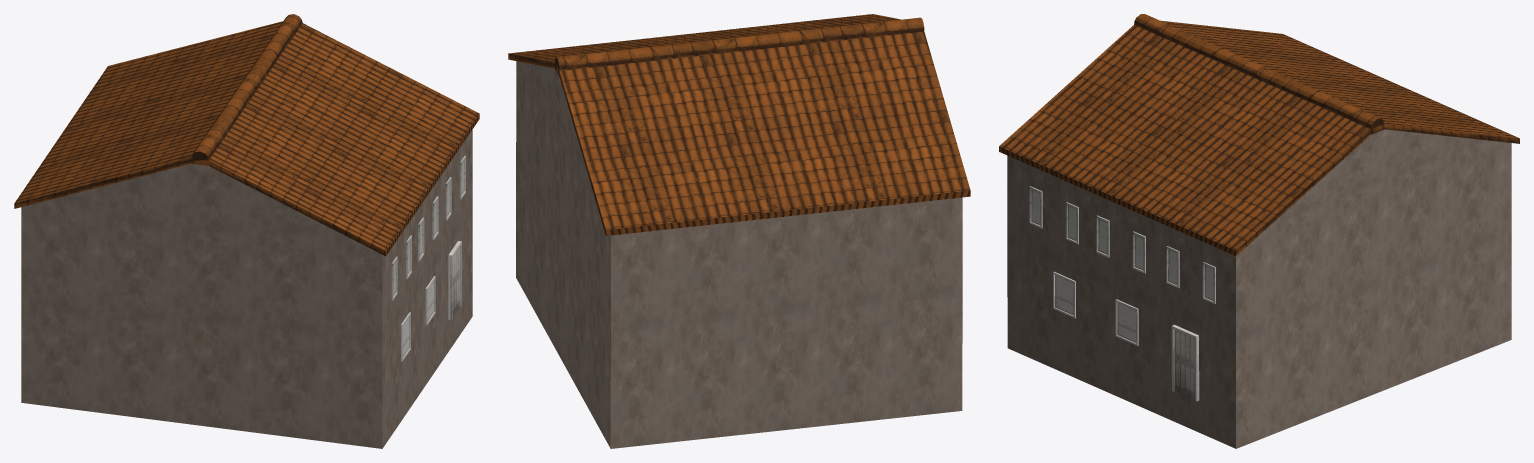
The model's file is Casa_23.fbx.
3 views of the same model, side by side, from view 1: azimuth 30°, elevation 25°; view 2: azimuth 150°, elevation 25°; view 3: azimuth 270°, elevation 25° (orthographic). The views are drawn at different scales.
Visible parts, largest first — view 1: Casa_23; view 2: Casa_23; view 3: Casa_23.
Boxes of the visible parts, x1,y1,x2,y2 form: Casa_23: (14,14,479,448); Casa_23: (508,14,970,448); Casa_23: (999,14,1519,448).
Size of the model in its own units: 14.3 by 8.59 by 14.57.
